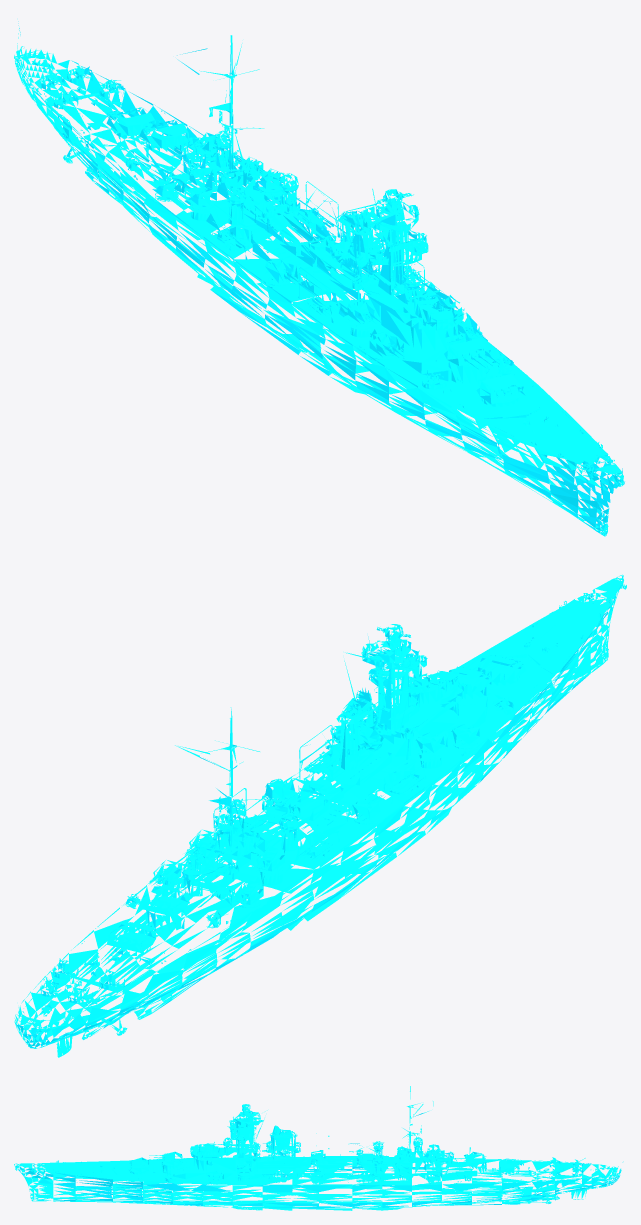
The model's file is PGSC920.glb.
3 renders of one model, top to bottom at view 1: azimuth 30°, elevation 25°; view 2: azimuth 150°, elevation 25°; view 3: azimuth 270°, elevation 25°, orthographic. The views are drawn at different scales.
Parts seen in each view (by area): view 1: hull, turret; view 2: hull, turret; view 3: hull, turret.
Part boxes in pixels (<box>): hull: <box>14,21,624,536</box>; turret: <box>43,59,525,404</box>; hull: <box>14,574,626,1057</box>; turret: <box>45,655,525,998</box>; hull: <box>14,1086,623,1210</box>; turret: <box>128,1141,585,1183</box>.
Bounding box in the file's own units: 1.72 × 3.2 × 15.47.
